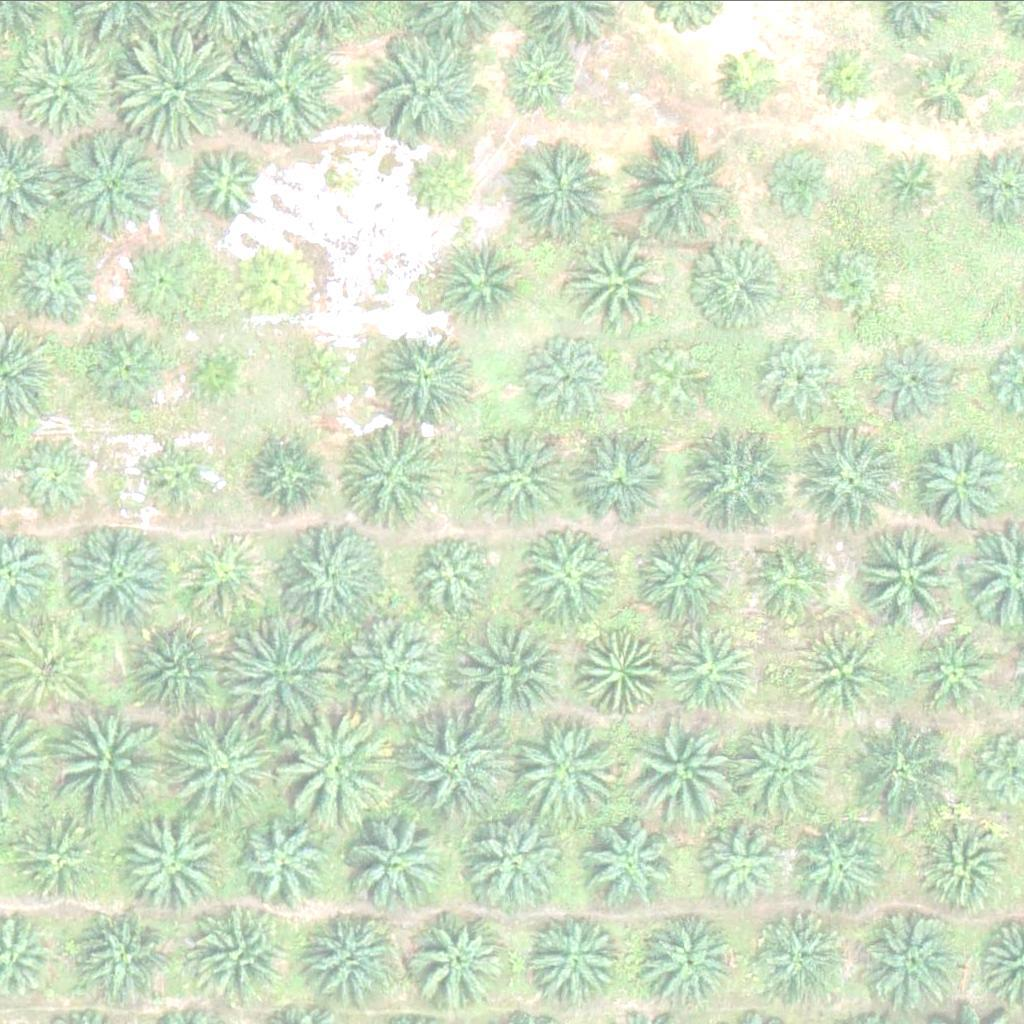Kelapa_Sawit: (168, 713, 282, 826), (840, 708, 953, 821), (515, 708, 628, 821), (399, 709, 512, 822), (225, 27, 338, 140), (373, 30, 486, 143), (336, 609, 450, 721), (853, 514, 967, 626), (114, 33, 228, 145), (43, 703, 157, 815), (729, 710, 842, 822), (619, 715, 732, 827), (282, 712, 395, 824), (230, 622, 343, 734), (451, 617, 564, 729), (271, 519, 384, 631), (682, 428, 795, 540), (796, 427, 909, 539), (622, 126, 735, 238), (61, 520, 174, 632), (53, 129, 166, 241), (918, 432, 1019, 532), (914, 818, 1015, 918), (862, 908, 963, 1008), (638, 909, 739, 1009), (409, 907, 510, 1007), (185, 906, 286, 1006), (236, 809, 337, 909), (346, 811, 447, 911), (582, 816, 683, 916), (794, 813, 895, 913), (793, 623, 894, 723), (637, 524, 738, 624), (513, 525, 614, 625), (477, 423, 578, 523), (568, 425, 669, 525), (375, 332, 476, 432), (568, 233, 669, 333), (507, 136, 608, 236), (15, 34, 116, 134), (73, 904, 174, 1004), (749, 901, 849, 1001), (525, 906, 625, 1006), (296, 899, 396, 999), (127, 815, 227, 915), (464, 812, 564, 912), (131, 619, 231, 719), (339, 426, 439, 526), (687, 232, 787, 332), (229, 237, 318, 325), (499, 31, 587, 119), (116, 237, 204, 325), (663, 624, 751, 712), (914, 628, 1002, 716), (738, 530, 826, 618), (871, 337, 959, 425), (753, 330, 841, 418), (14, 432, 102, 520), (12, 816, 100, 904), (12, 236, 101, 323), (179, 530, 267, 617), (696, 819, 784, 906), (571, 627, 659, 714), (413, 526, 501, 613), (243, 431, 331, 518), (520, 333, 608, 420), (440, 239, 528, 326), (184, 142, 272, 229), (86, 327, 174, 414), (401, 147, 477, 222), (763, 144, 839, 219), (875, 146, 951, 221), (178, 339, 254, 414), (286, 335, 362, 410), (149, 433, 224, 508), (713, 39, 788, 114), (634, 338, 709, 413), (913, 54, 988, 129), (818, 240, 893, 315), (809, 39, 884, 114)
